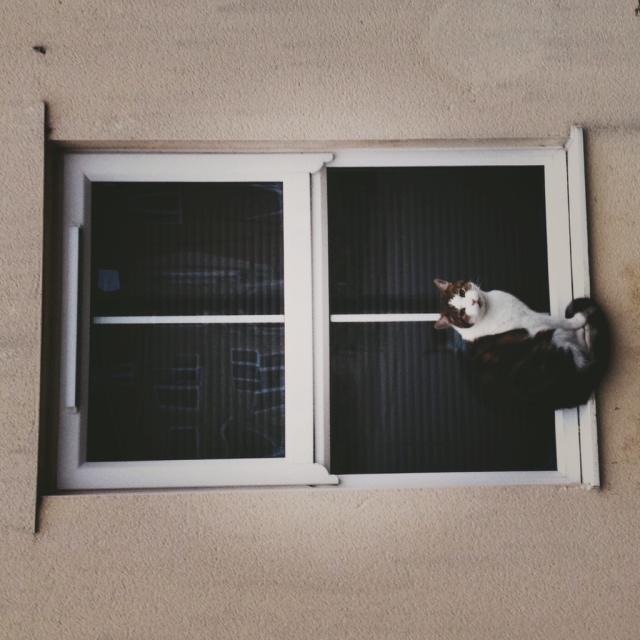Cat: (432, 277, 610, 410)
